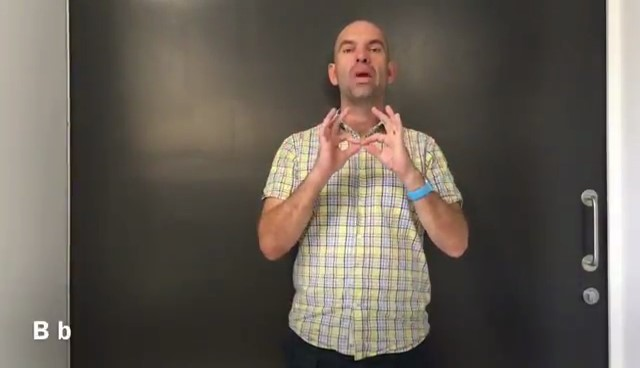B: (314, 98, 414, 182)
